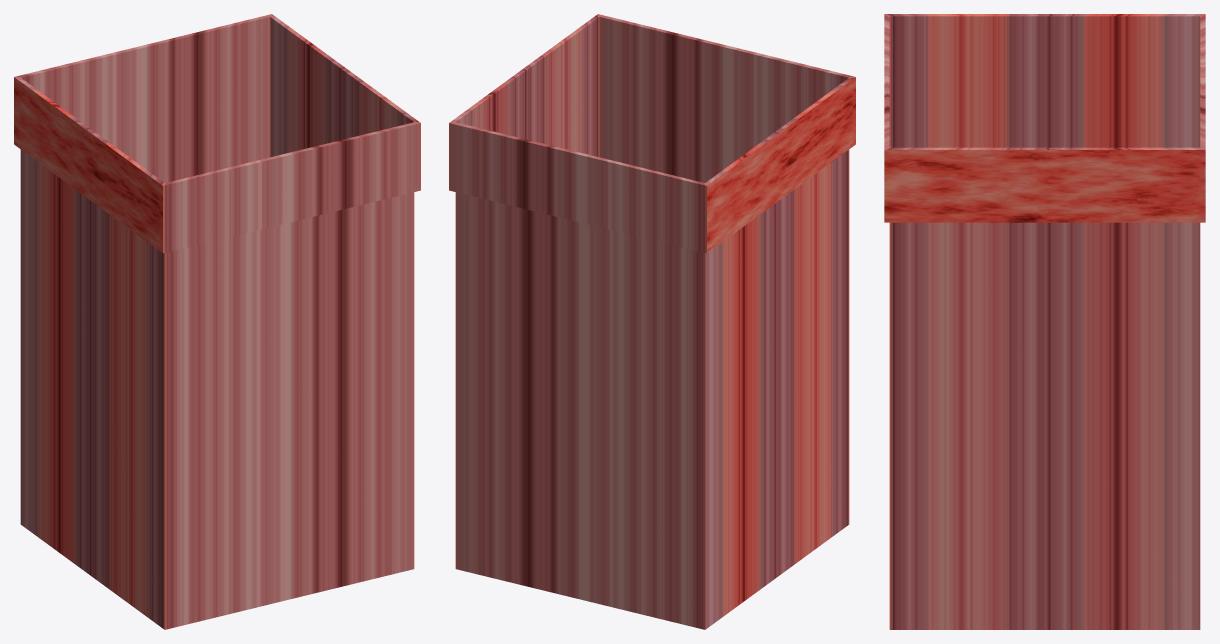
Rendered from black02.fbx.
3 views of the same model, side by side, from view 1: azimuth 30°, elevation 25°; view 2: azimuth 150°, elevation 25°; view 3: azimuth 270°, elevation 25° (orthographic). The views are drawn at different scales.
Visible parts, largest first — view 1: pCube1; view 2: pCube1; view 3: pCube1.
Part boxes in pixels (box(x1,y1,x2,y2)): pCube1: box(14, 14, 420, 629); pCube1: box(449, 14, 855, 629); pCube1: box(884, 14, 1205, 629).
Size of the model in its own units: 2 by 3.31 by 2.
Materials: 1 (1 with a texture image).
